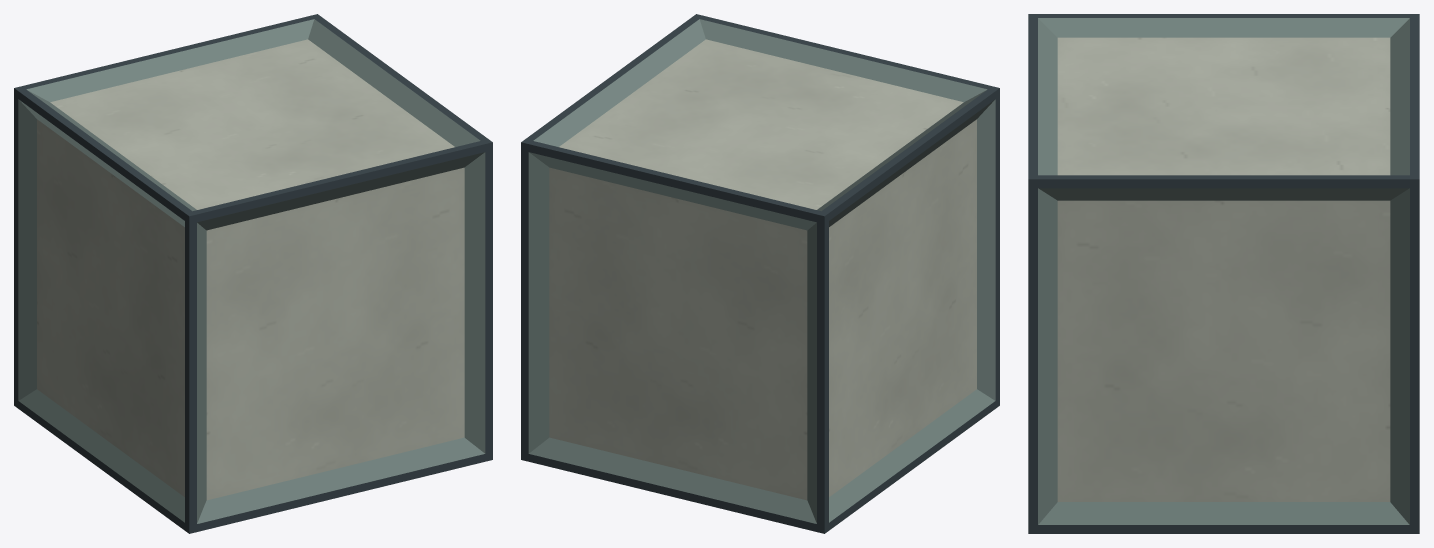
File: hull-block.glb
3 views of the same model, side by side, from view 1: azimuth 30°, elevation 25°; view 2: azimuth 150°, elevation 25°; view 3: azimuth 270°, elevation 25° (orthographic). The views are drawn at different scales.
Visible parts, largest first — view 1: hull-block; view 2: hull-block; view 3: hull-block.
Boxes of the visible parts, <box> form: hull-block: <box>14,14,492,533</box>; hull-block: <box>521,14,999,533</box>; hull-block: <box>1028,14,1419,533</box>.
Size of the model in its own units: 1 by 1 by 1.
Materials: 3 (1 with a texture image).
